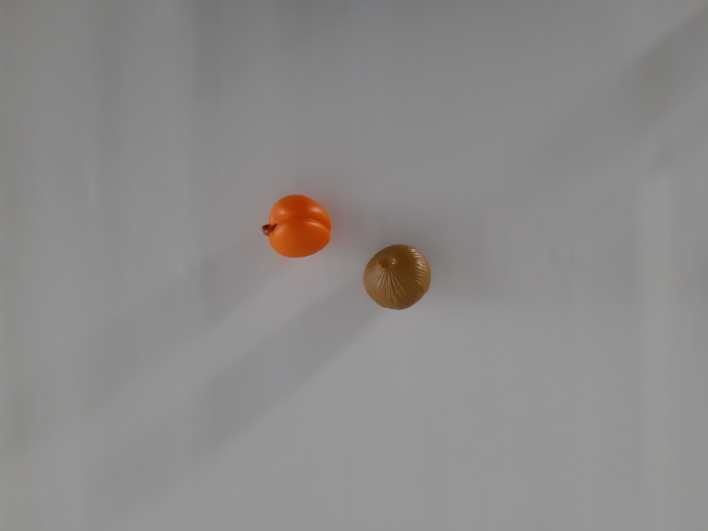apricot: (253, 189, 338, 269)
onion: (355, 236, 440, 322)
